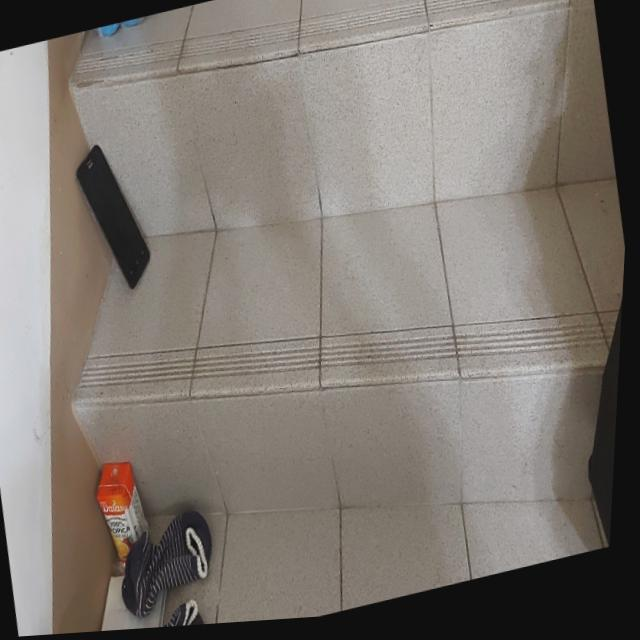Smartphone: (76, 145, 152, 289)
